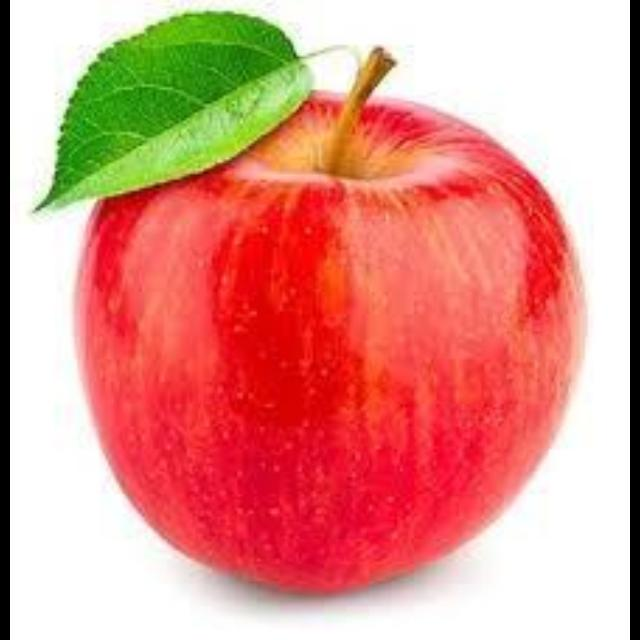apple: (77, 93, 583, 589)
